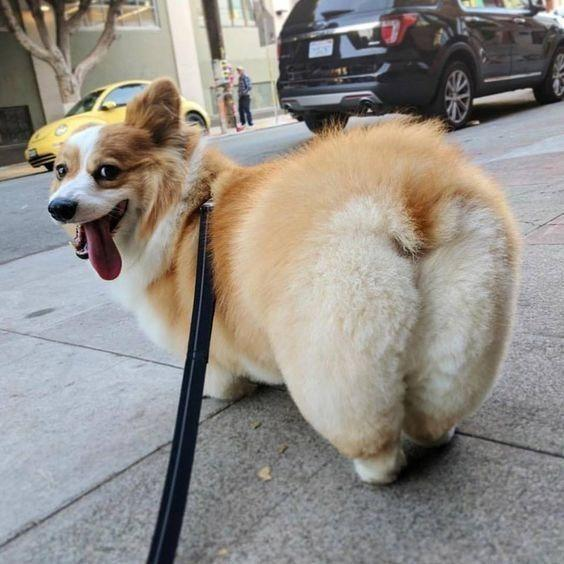adult_dog: (47, 78, 523, 489)
